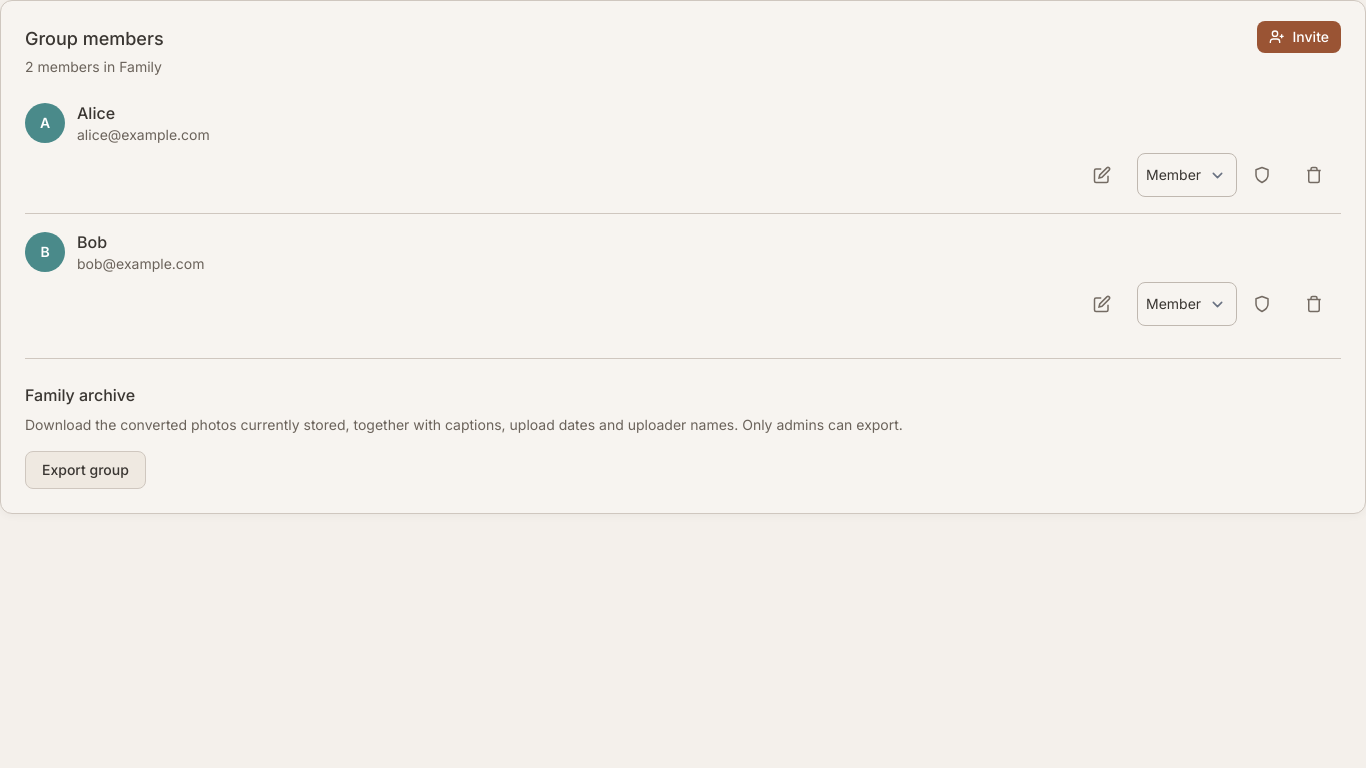
Test: MembersList image protection toggle › reverts only the failed member, keeping a concurrent toggle of another member
The width and height of the screenshot is (1366, 768).
Click the button named "Enable image protection for Alice" at (1267, 175), box [1245,153,1289,197]
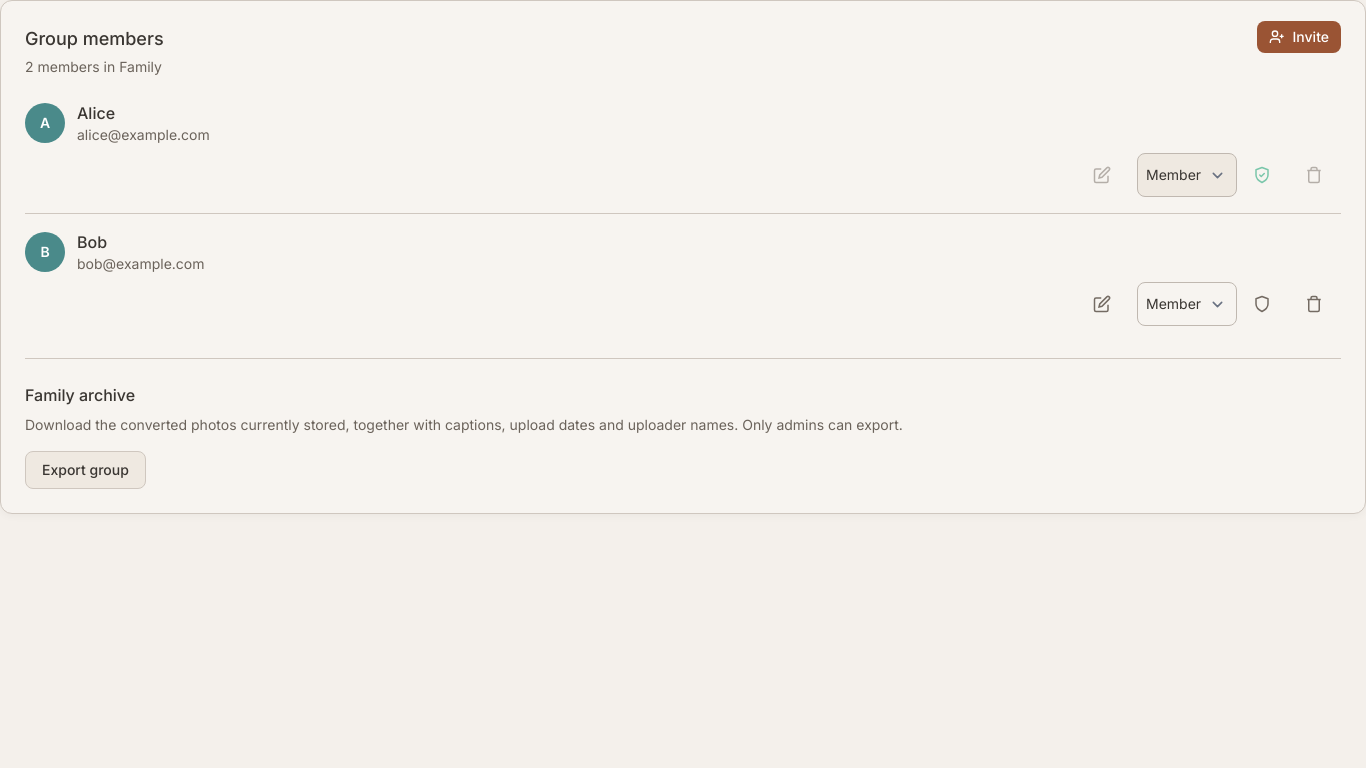
Click the button named "Enable image protection for Bob" at (1267, 304), box [1245,282,1289,326]
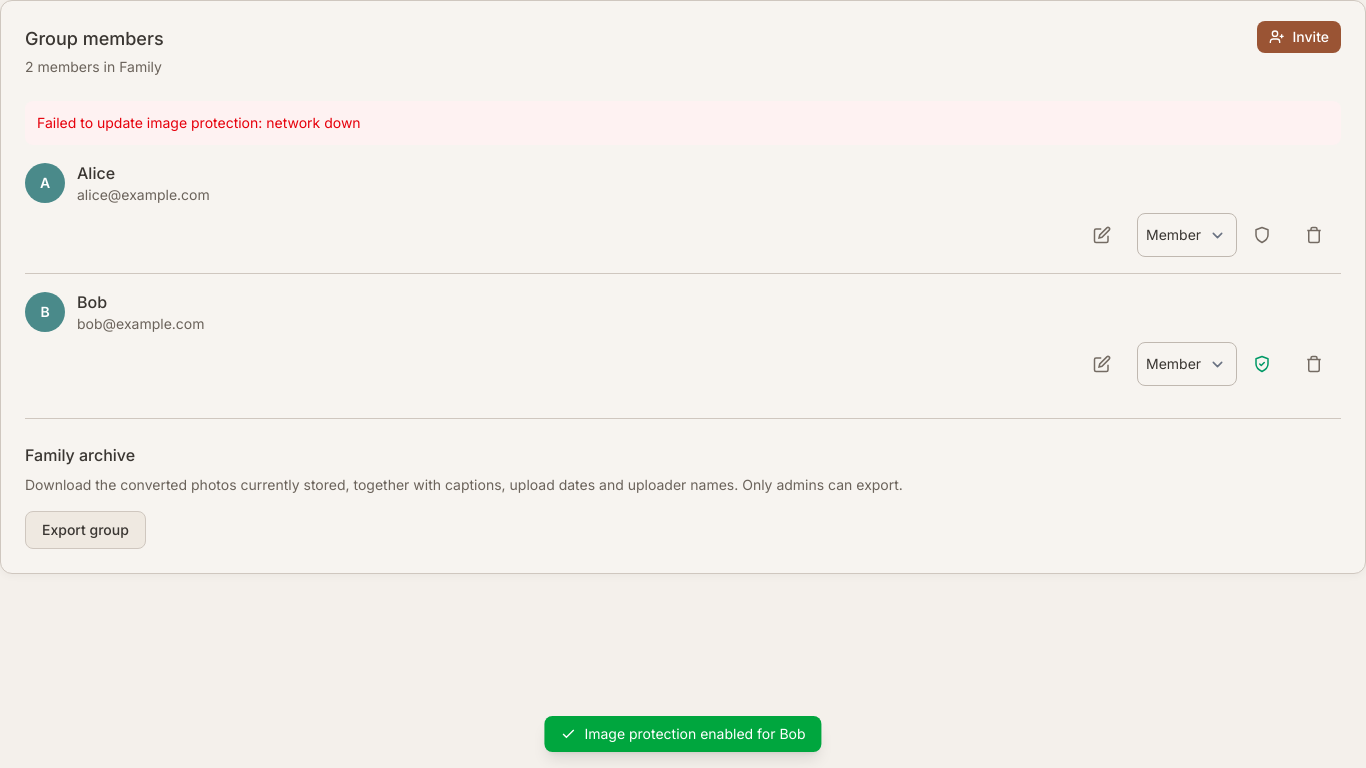
Expected: the button named "Enable image protection for Alice" is shown, [1245,213,1289,257]
